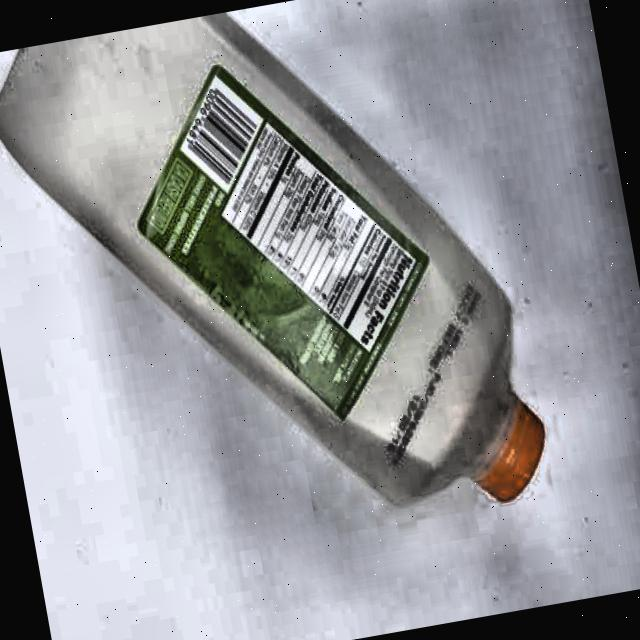plastic: (0, 0, 557, 573)
